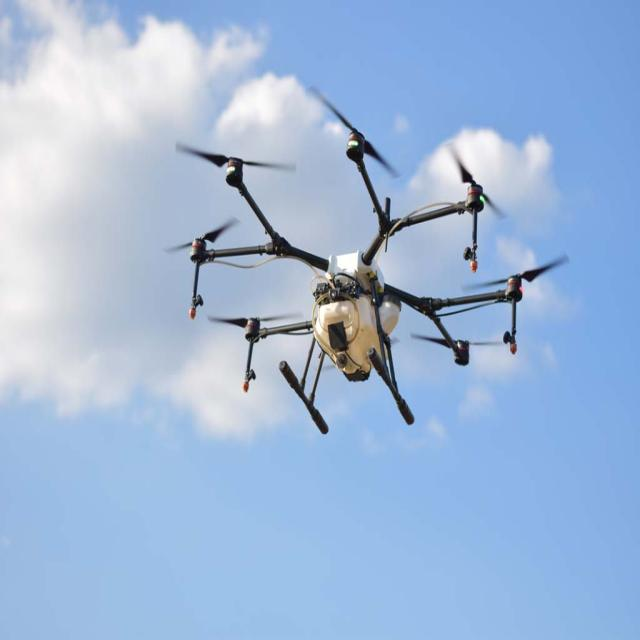drone: (158, 82, 562, 437)
